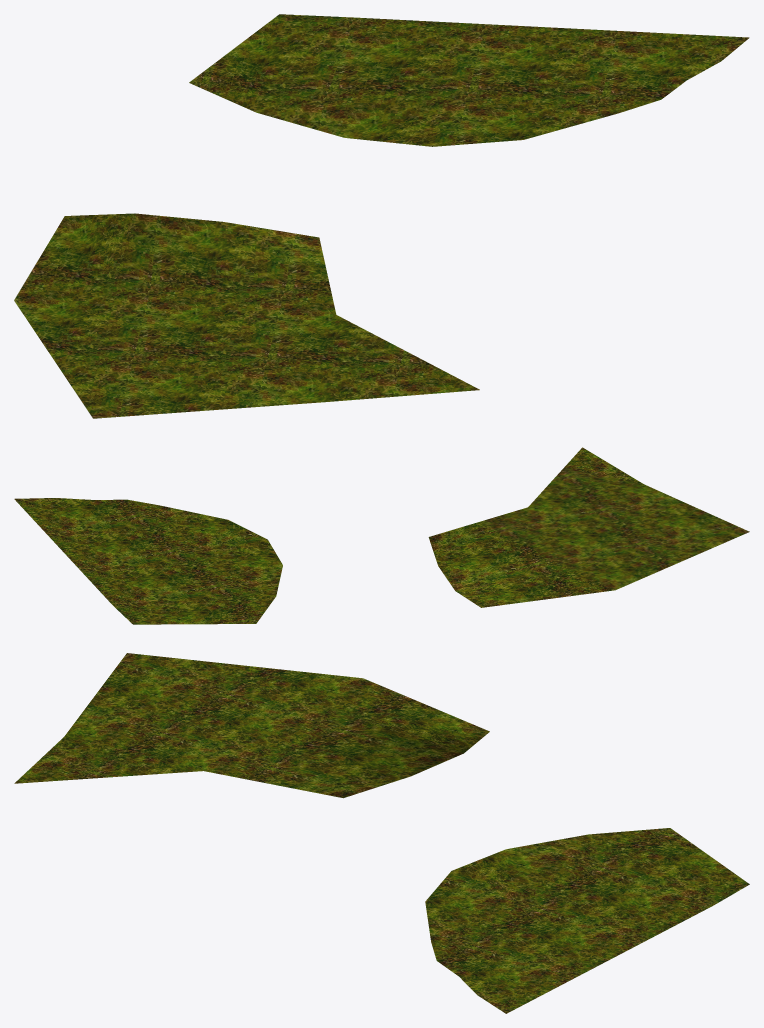
File: TROLLHOLE02_ZRM_PSURF251.obj
3 renders of one model, top to bottom at view 1: azimuth 30°, elevation 25°; view 2: azimuth 150°, elevation 25°; view 3: azimuth 270°, elevation 25°, orthographic. The views are drawn at different scales.
Visible parts, largest first — view 1: zRM_Psurf251; view 2: zRM_Psurf251; view 3: zRM_Psurf251.
Part boxes in pixels (bbox=[...]): zRM_Psurf251: bbox=[14, 14, 749, 418]; zRM_Psurf251: bbox=[14, 447, 749, 624]; zRM_Psurf251: bbox=[14, 653, 749, 1013].
Bounding box in the file's own units: 1888 × 7.91 × 1626.
